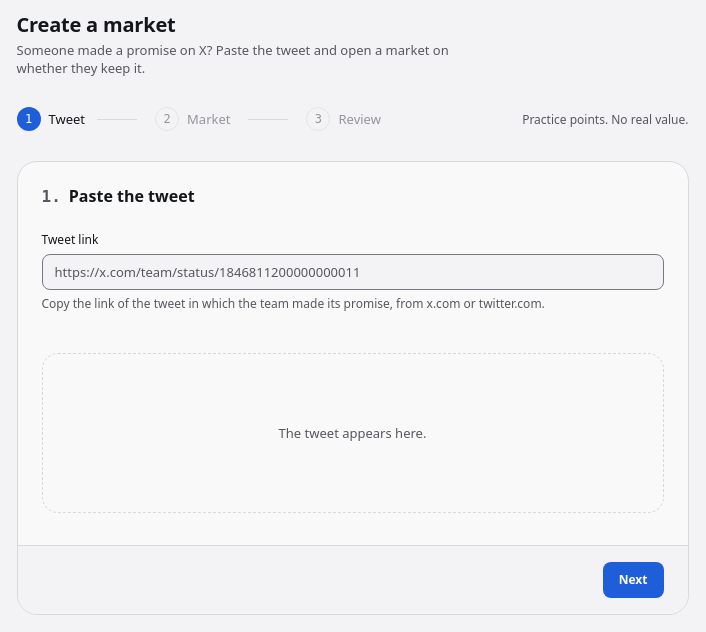
create wizard: tweet step › says so when the tweet cannot be found, and lets you retry
Type "https://x.com/nobody/status/1846811299999999999" into the field labelled "Tweet link" at (352, 272), box [42,254,664,290]
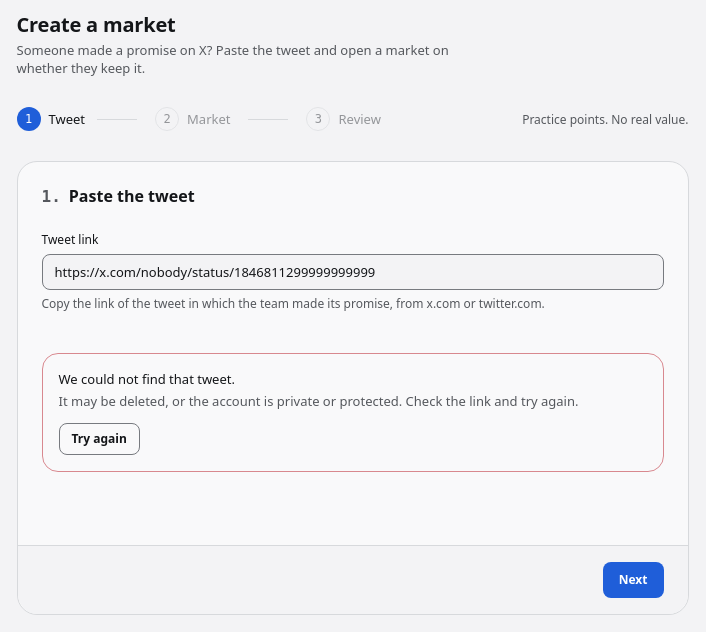
Check: the text "We could not find that tweet." is shown, box [58,370,235,388]
Check: the button "Try again" is shown, box [58,422,140,454]
